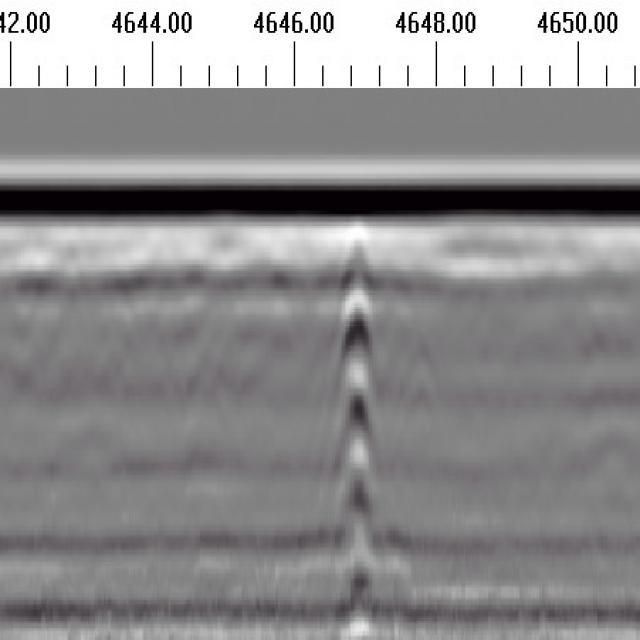crack: (342, 217, 377, 639)
